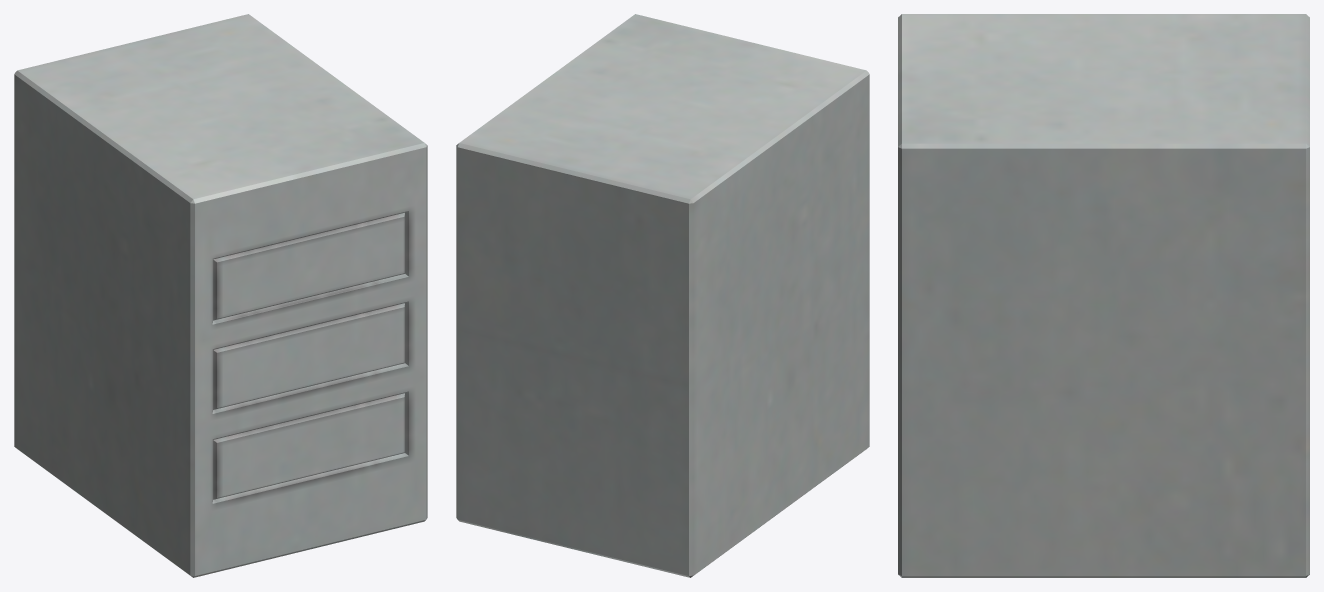
Rendered from MedBayCabinet.fbx.
The picture shows the model from 3 angles, left to right: view 1: azimuth 30°, elevation 25°; view 2: azimuth 150°, elevation 25°; view 3: azimuth 270°, elevation 25°; orthographic projection. The views are drawn at different scales.
Visible parts, largest first — view 1: Medbay_Cabinet; view 2: Medbay_Cabinet; view 3: Medbay_Cabinet.
Boxes of the visible parts, bbox=[...] form: Medbay_Cabinet: bbox=[14, 14, 427, 577]; Medbay_Cabinet: bbox=[456, 14, 869, 577]; Medbay_Cabinet: bbox=[898, 14, 1309, 577].
Size of the model in its own units: 52.32 by 79.77 by 68.55.
